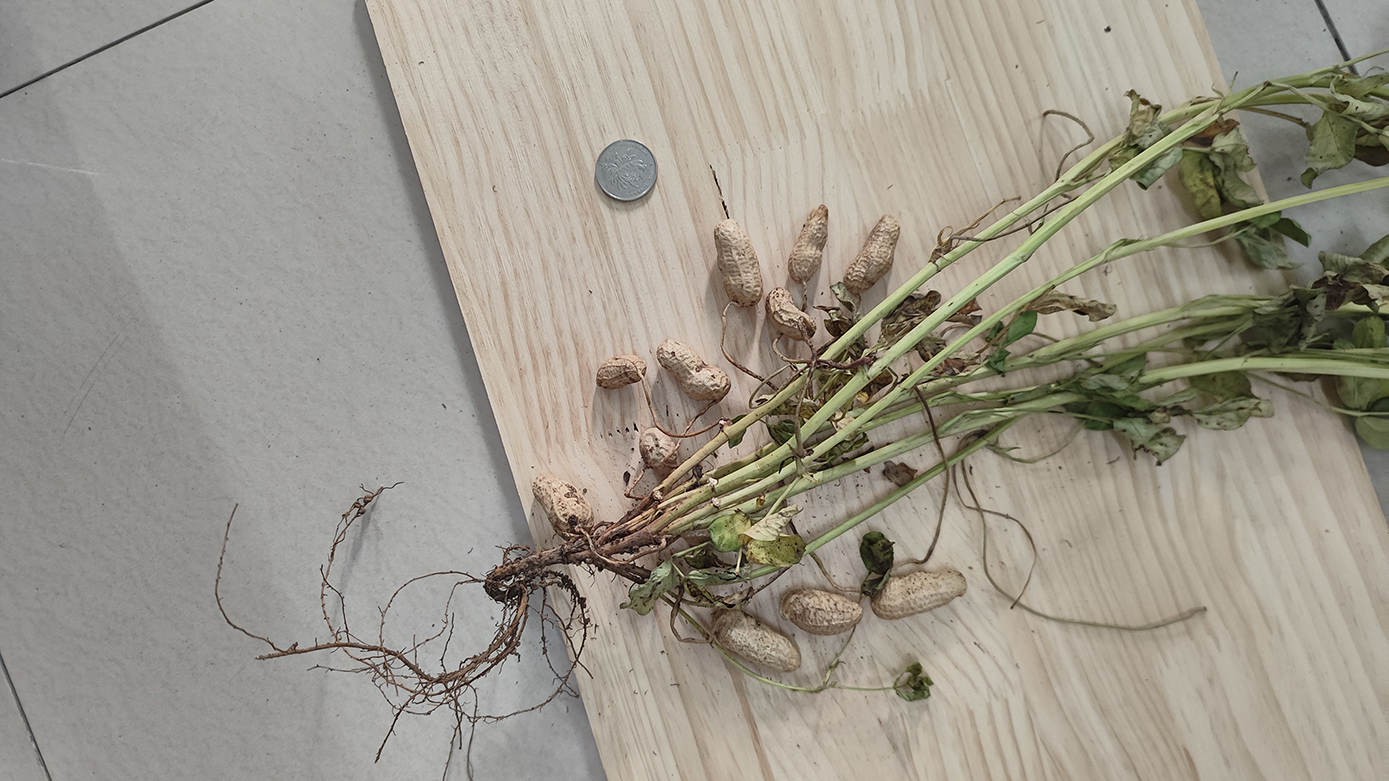h: (712, 611, 802, 675), (842, 214, 901, 295), (657, 339, 732, 402), (871, 571, 969, 619), (531, 470, 594, 540), (714, 219, 764, 306), (786, 203, 830, 284), (783, 589, 862, 633), (767, 289, 816, 340), (638, 425, 679, 471), (596, 353, 647, 389)
